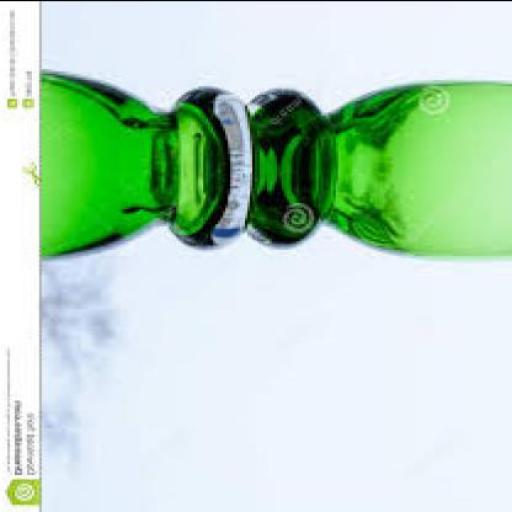glass: (42, 69, 511, 262)
